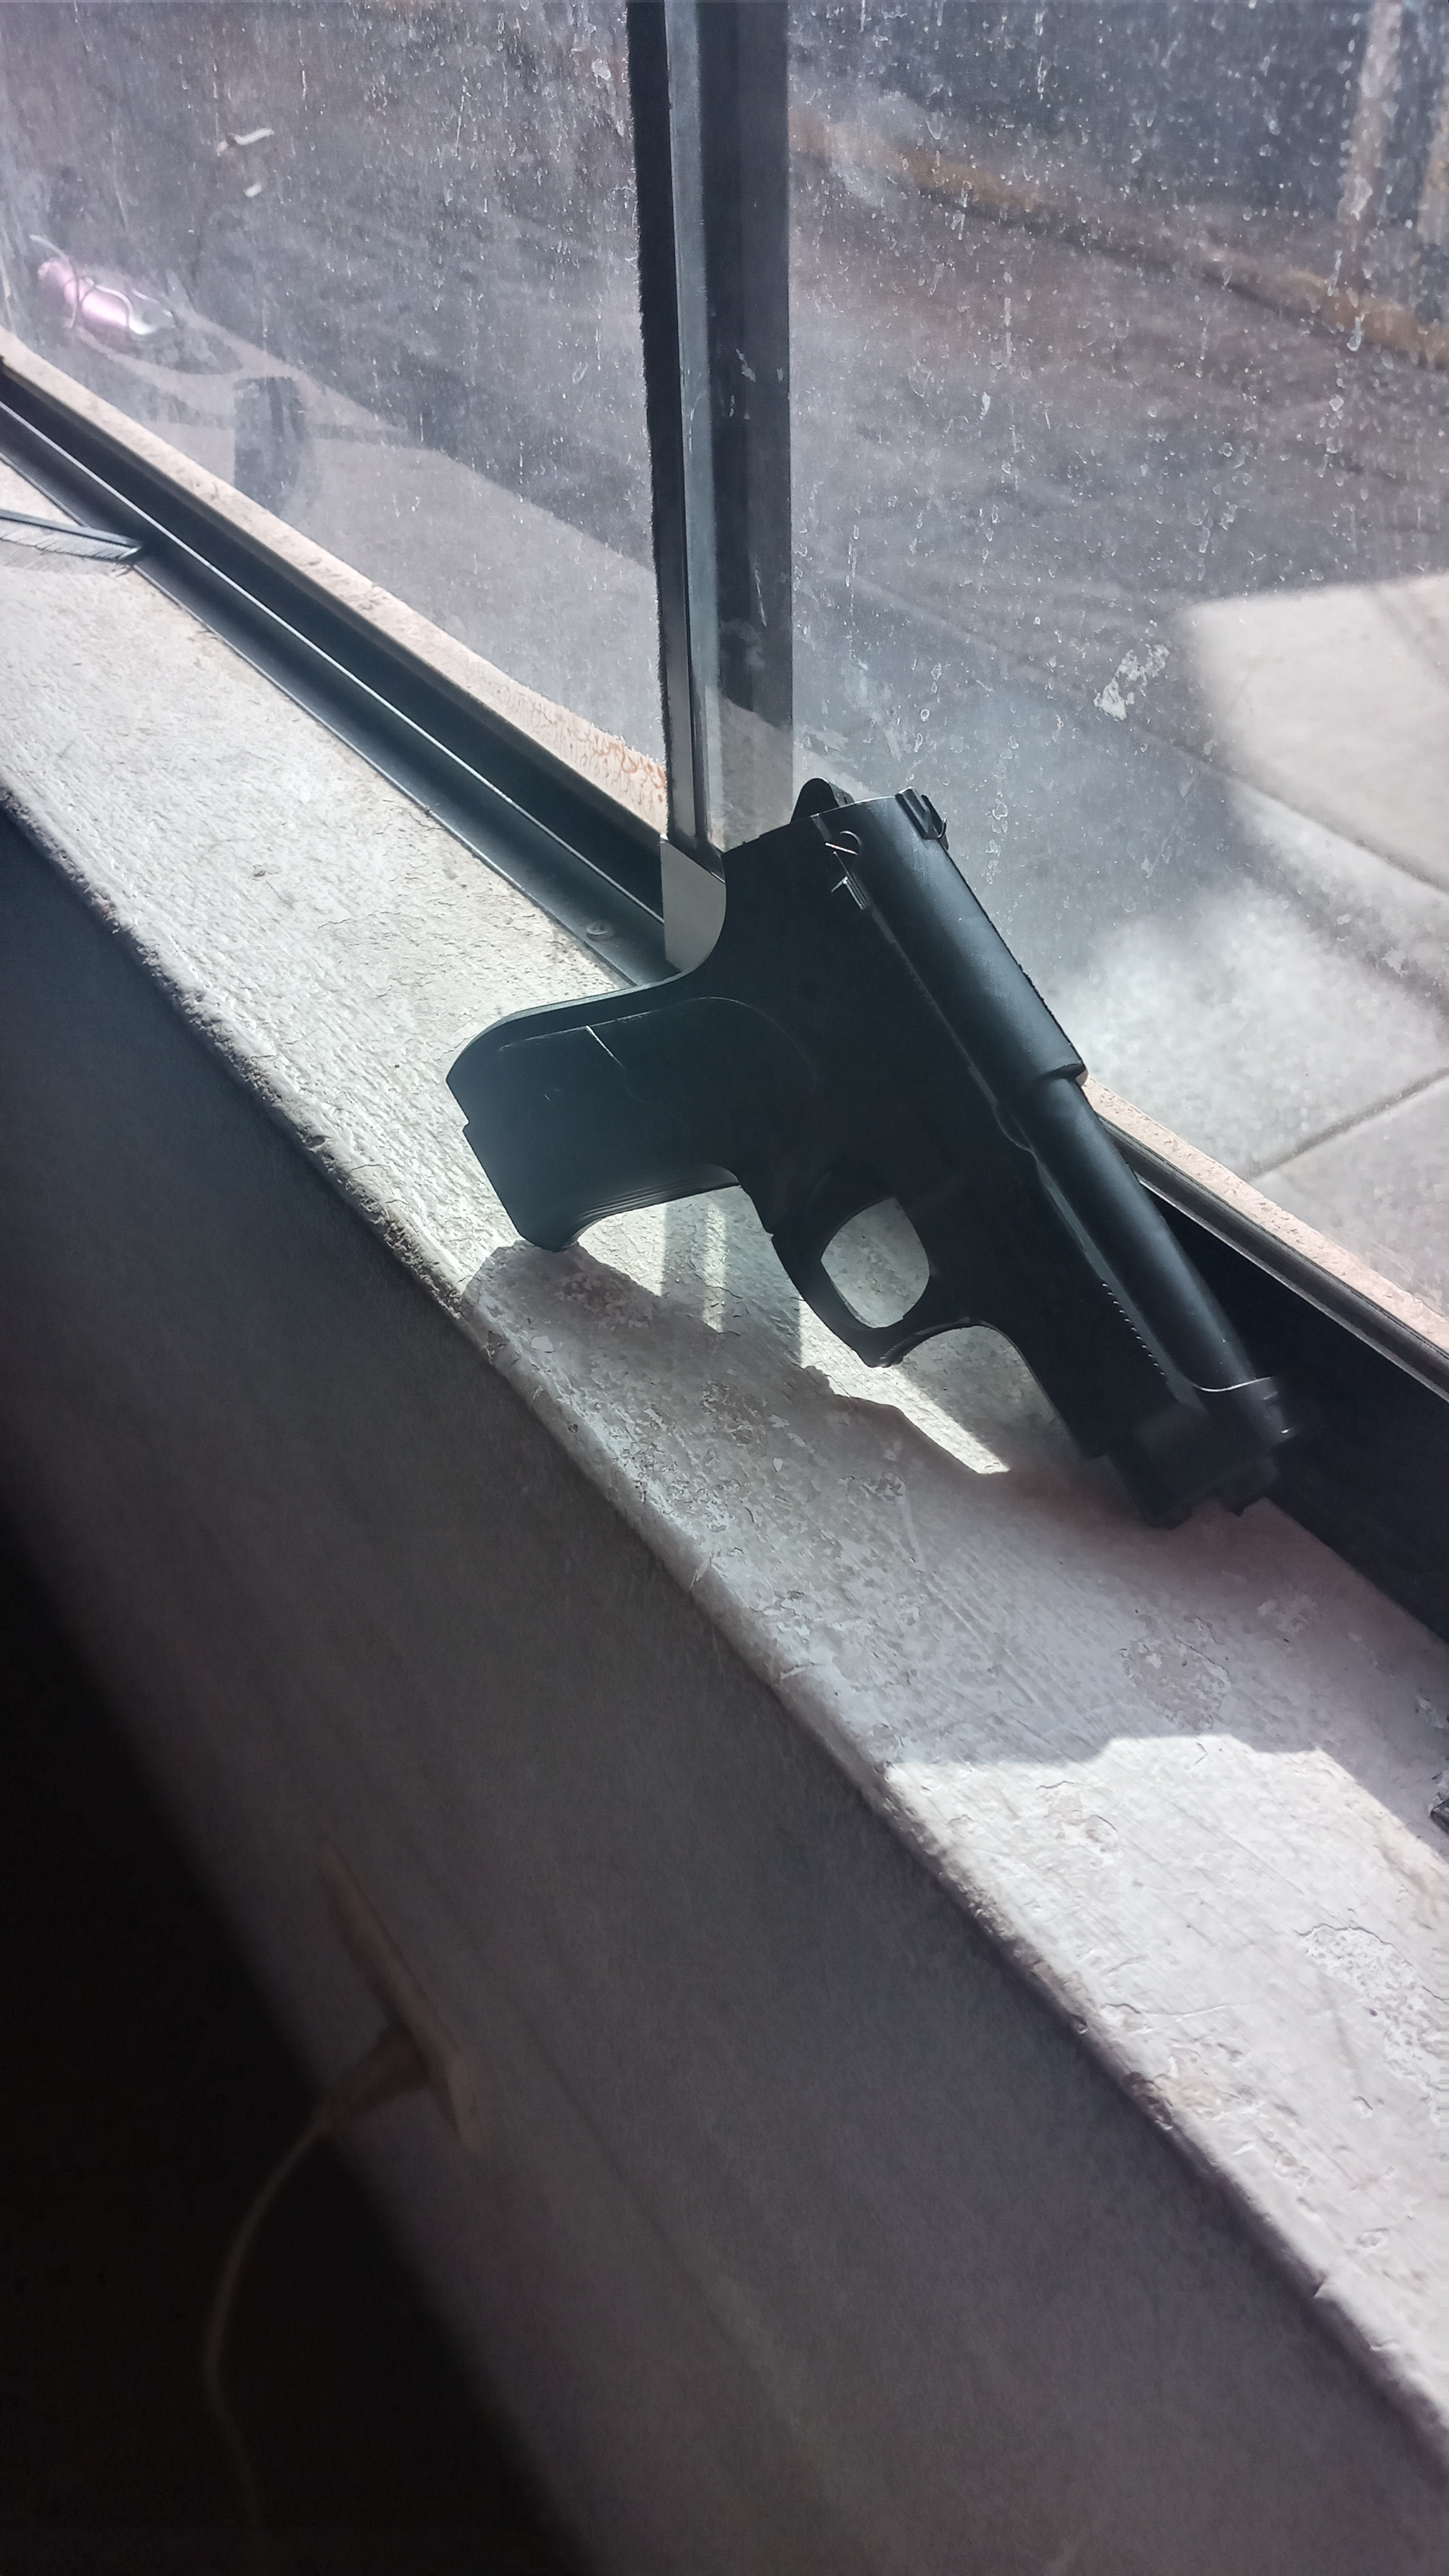Arma: (483, 816, 1307, 1523)
